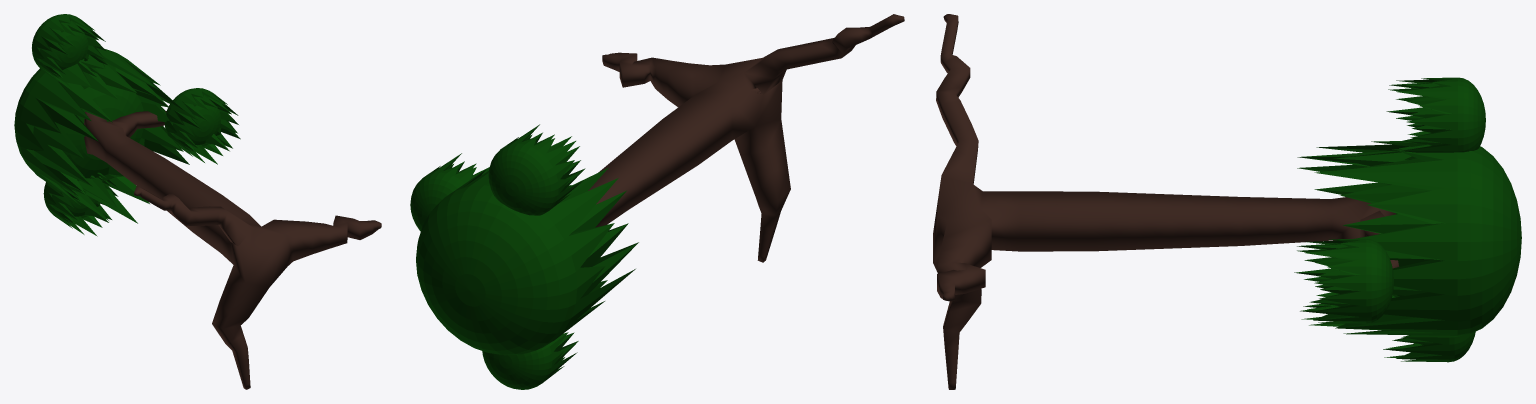
The model's file is Tree2_2.fbx.
3 renders of one model, left to right at view 1: azimuth 30°, elevation 25°; view 2: azimuth 150°, elevation 25°; view 3: azimuth 270°, elevation 25°, orthographic. The views are drawn at different scales.
Visible parts, largest first — view 1: Tree2; view 2: Tree2; view 3: Tree2.
Part boxes in pixels (bbox=[...]): Tree2: bbox=[14, 14, 381, 389]; Tree2: bbox=[410, 14, 904, 389]; Tree2: bbox=[933, 14, 1521, 389].
Size of the model in its own units: 914 by 823 by 1413.
